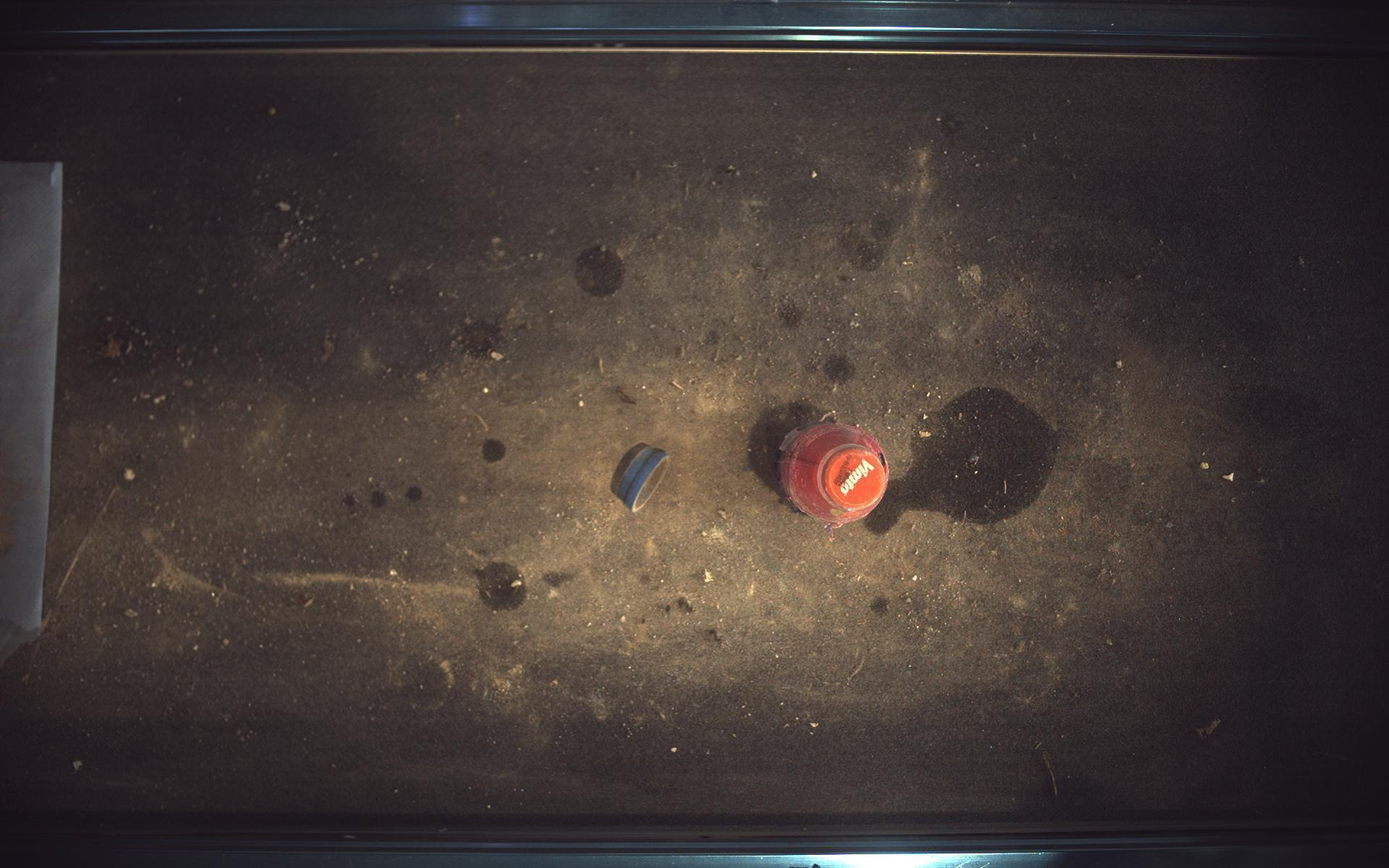general_w: (781, 422, 891, 530)
pipes: (611, 443, 671, 512)
